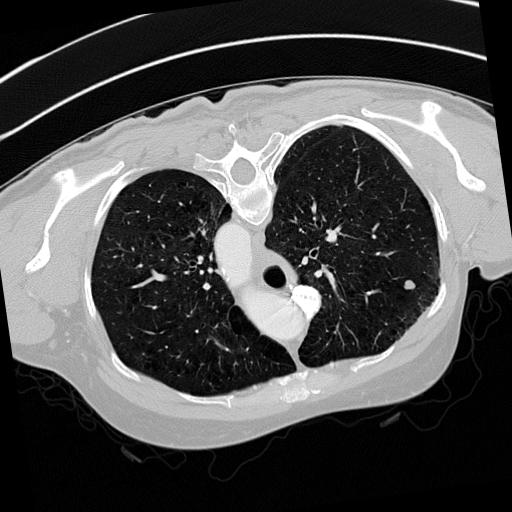nodule: (403, 278, 420, 295)
